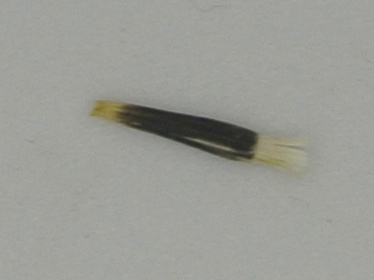เมล็ดดีติดกัน: (88, 97, 311, 182)
